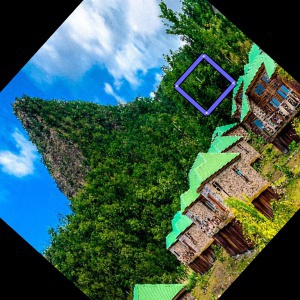square: (172, 52, 238, 116)
